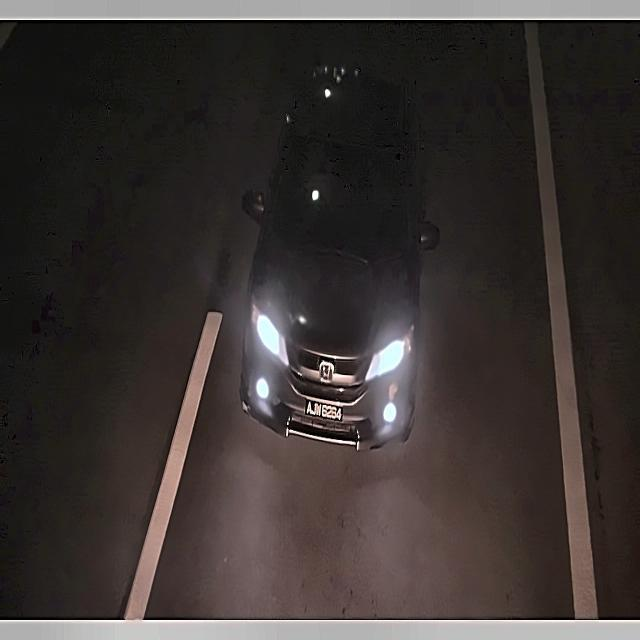car: (304, 395, 348, 427)
